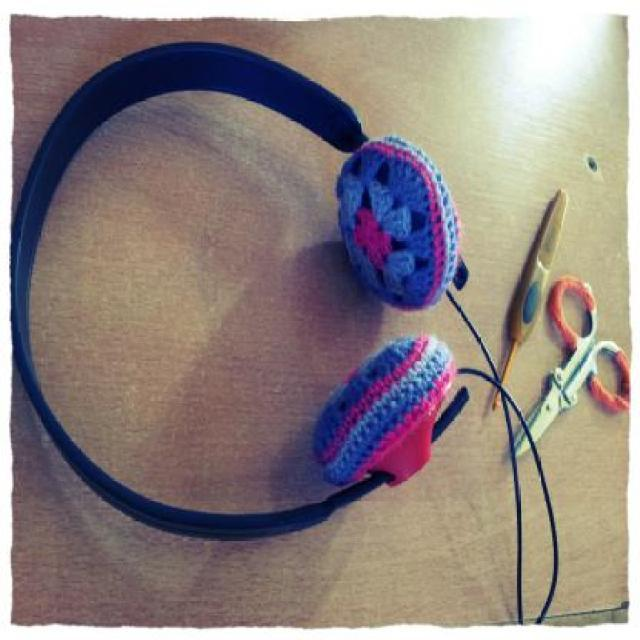earphone: (15, 10, 467, 577)
